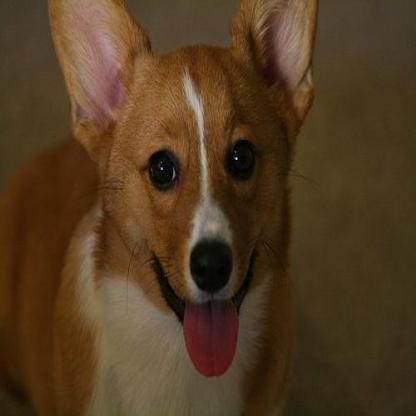Pembroke: (0, 0, 320, 413)
